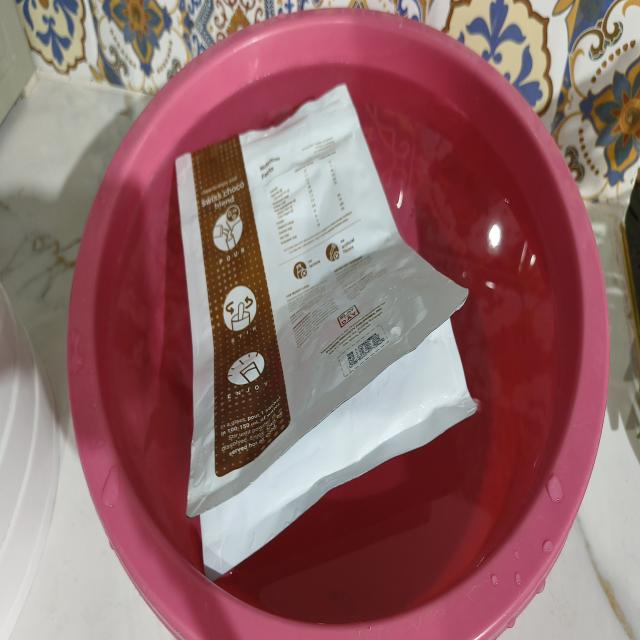Plastic Wrapper: (139, 61, 500, 597)
